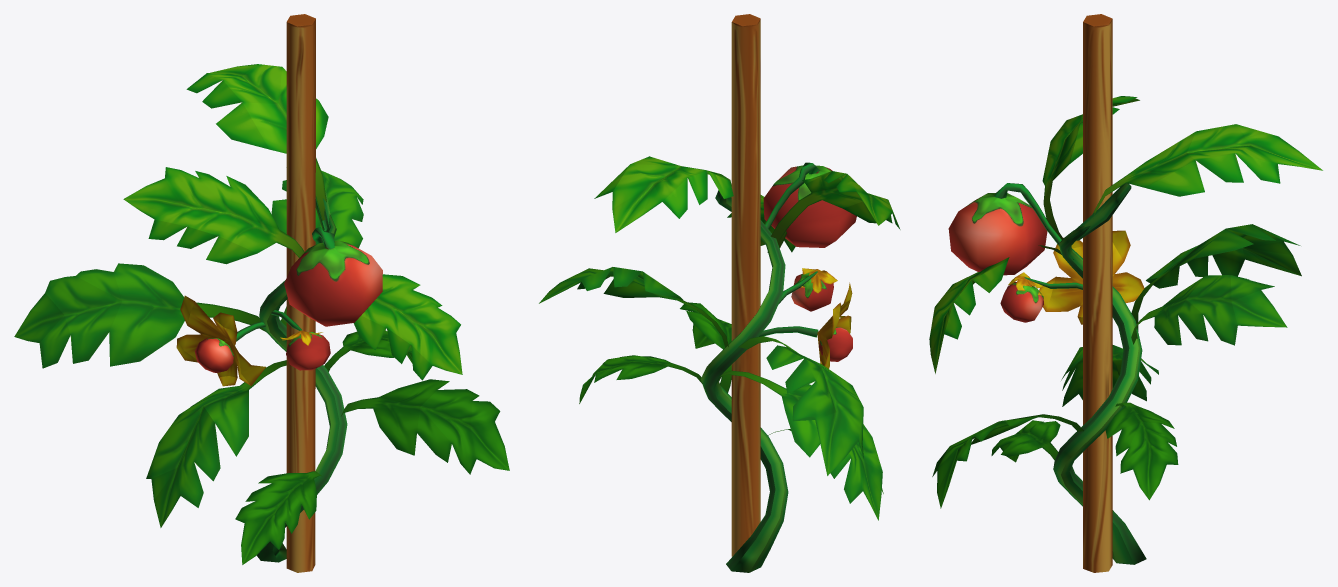
The model's file is level_4.glb.
The picture shows the model from 3 angles, left to right: view 1: azimuth 30°, elevation 25°; view 2: azimuth 150°, elevation 25°; view 3: azimuth 270°, elevation 25°; orthographic projection. The views are drawn at different scales.
Visible parts, largest first — view 1: SM_Tomato_Lv2_Tomato_SG_0.007; view 2: SM_Tomato_Lv2_Tomato_SG_0.007; view 3: SM_Tomato_Lv2_Tomato_SG_0.007.
Boxes of the visible parts, left/top/right/bottom form: SM_Tomato_Lv2_Tomato_SG_0.007: left=14, top=14, right=509, bottom=572; SM_Tomato_Lv2_Tomato_SG_0.007: left=539, top=14, right=900, bottom=572; SM_Tomato_Lv2_Tomato_SG_0.007: left=929, top=14, right=1322, bottom=572.
Bounding box in the file's own units: 30.4 × 47.48 × 31.02.
2 materials, 2 textured.
